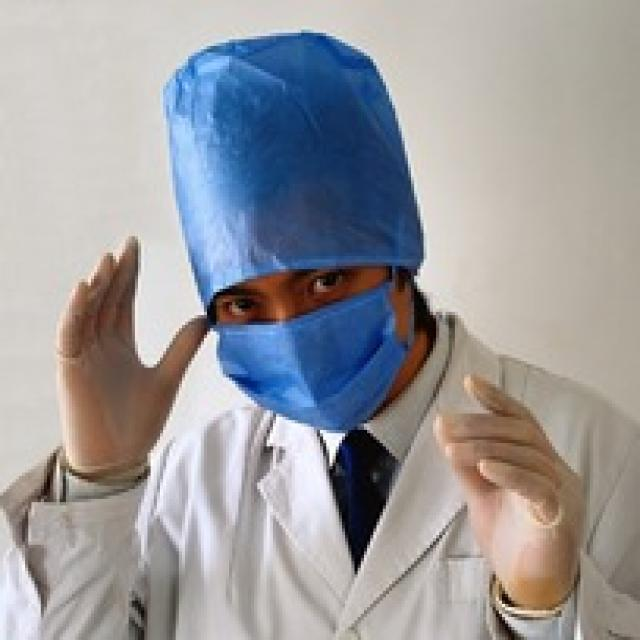mask: (202, 225, 388, 418)
